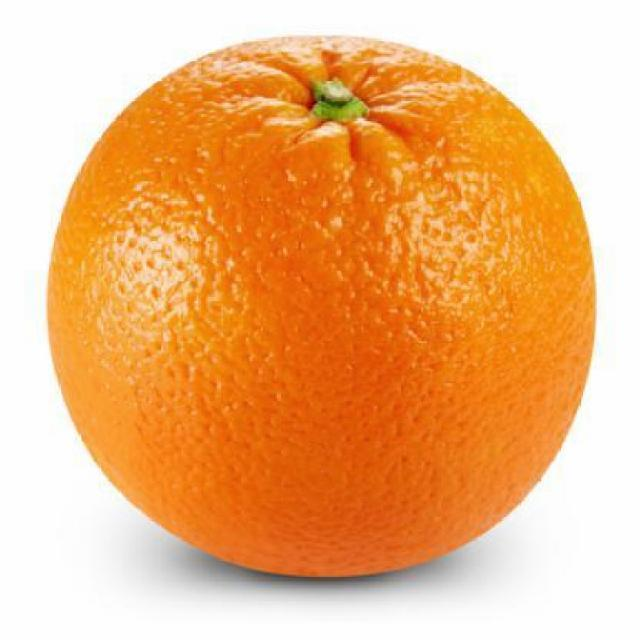Jeruk Sudah Matang: (48, 36, 598, 570)
